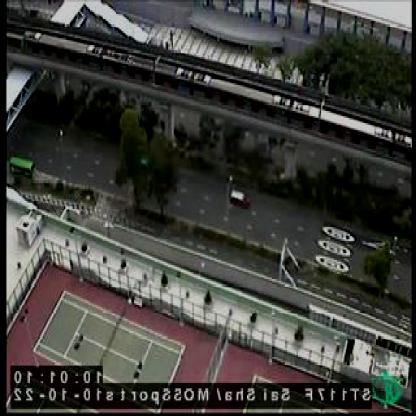Bus: (8, 154, 34, 177)
Car: (228, 188, 248, 208)
